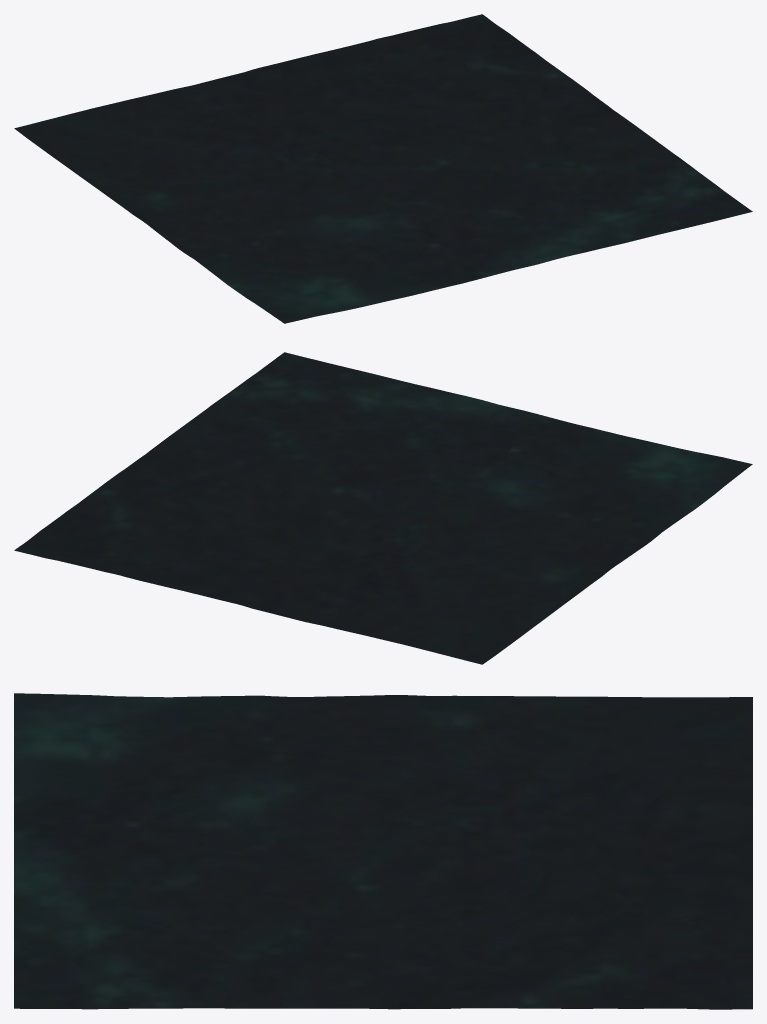
3 renders of one model, top to bottom at view 1: azimuth 30°, elevation 25°; view 2: azimuth 150°, elevation 25°; view 3: azimuth 270°, elevation 25°, orthographic. The views are drawn at different scales.
Bounding box in the file's own units: 52.22 × 0.4359 × 52.22.
Materials: 2 (2 with a texture image).
